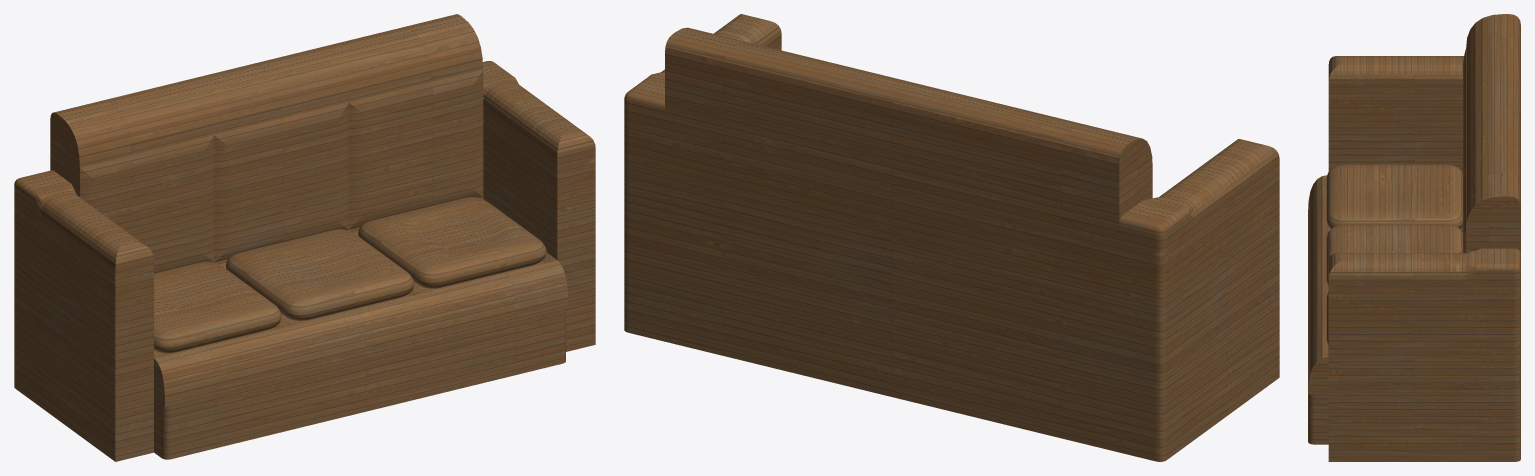
Rendered from sofa.fbx.
3 views of the same model, side by side, from view 1: azimuth 30°, elevation 25°; view 2: azimuth 150°, elevation 25°; view 3: azimuth 270°, elevation 25° (orthographic). The views are drawn at different scales.
Parts seen in each view (by area): view 1: Box004, Box003, Box001, Box002; view 2: Box004; view 3: Box004, Box002, Box003.
Part boxes in pixels (x1=…): Box004: x1=14, y1=14, x2=595, y2=461; Box003: x1=225, y1=229, x2=414, y2=320; Box001: x1=358, y1=197, x2=546, y2=288; Box002: x1=154, y1=261, x2=281, y2=353; Box004: x1=624, y1=14, x2=1279, y2=461; Box004: x1=1308, y1=14, x2=1520, y2=461; Box002: x1=1326, y1=164, x2=1462, y2=228; Box003: x1=1326, y1=224, x2=1462, y2=285.
Bounding box in the file's own units: 374 × 199 × 155.
